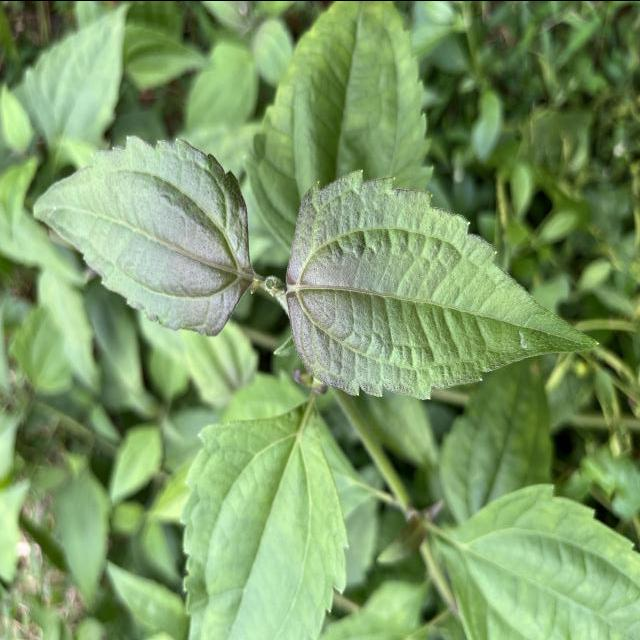Chromolaena odorata: (280, 163, 608, 405), (28, 127, 255, 343)
